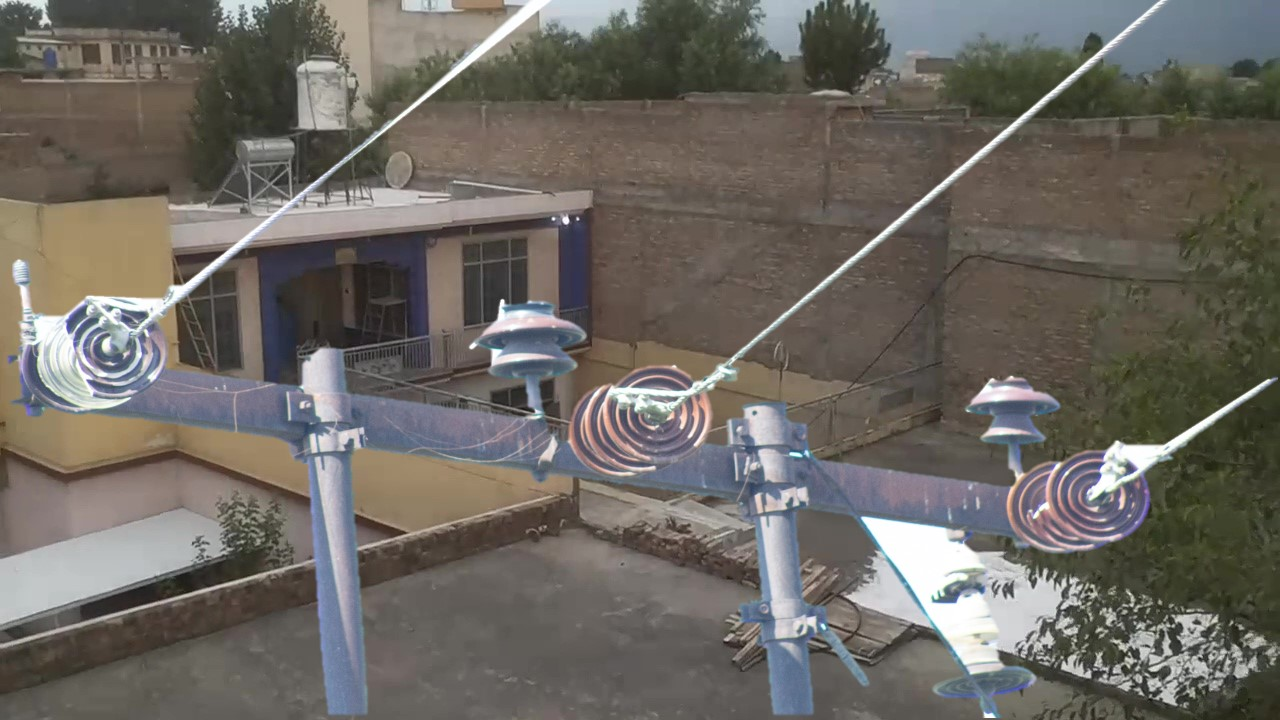defect_disc: (63, 288, 171, 408)
insulator_disc: (601, 359, 719, 467), (1044, 445, 1157, 543)
